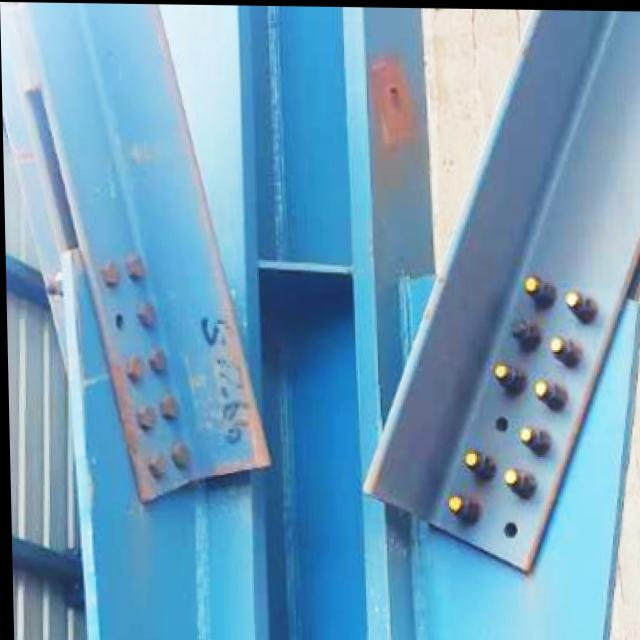Missing bolt: (496, 511, 519, 547), (491, 414, 509, 433)
Regular bolt: (533, 374, 568, 407), (564, 283, 597, 317), (501, 464, 534, 498), (548, 332, 576, 365), (517, 420, 547, 450), (489, 360, 519, 390), (461, 448, 481, 474), (521, 272, 538, 296), (443, 491, 460, 514)
